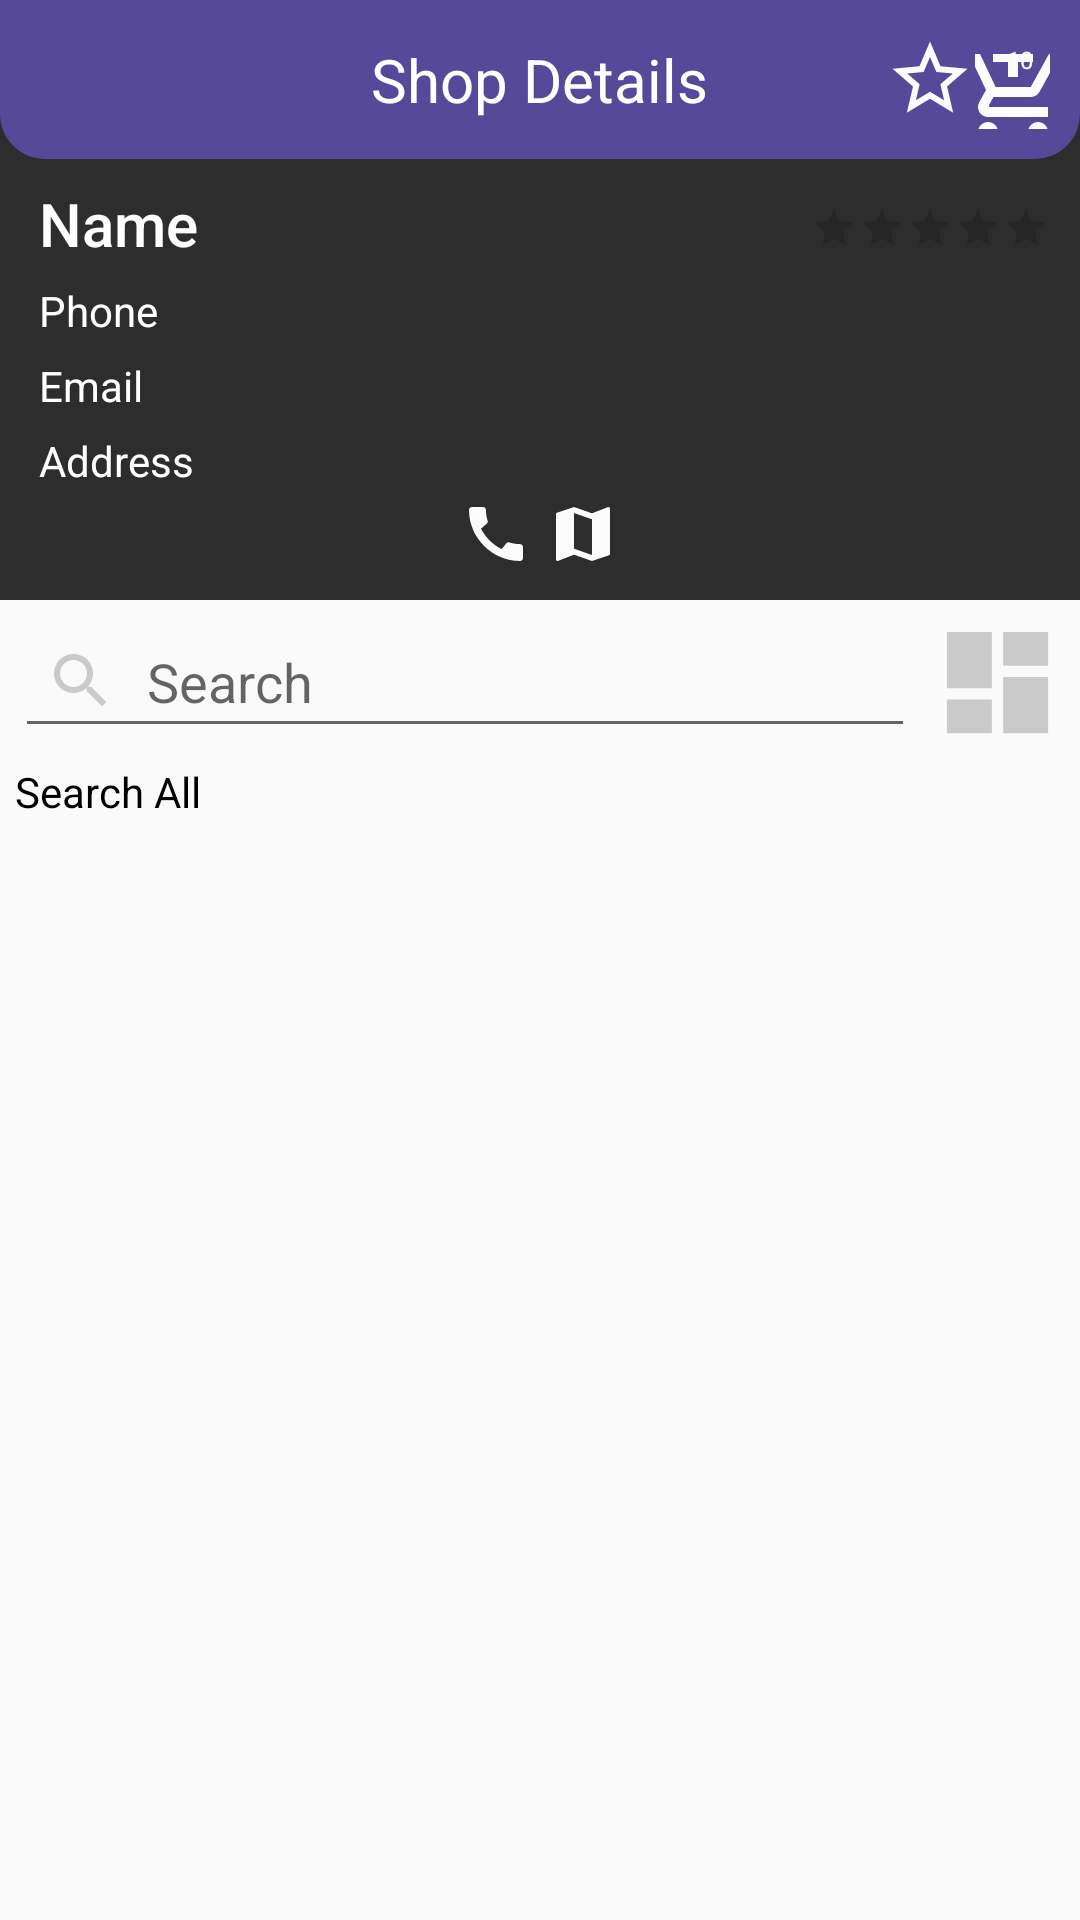

Icon bounding boxes for this 1080x1920 phone screenshot, format (x1, y1, x2, y2):
add shopping cart: (975, 54, 1050, 129)
call: (469, 507, 523, 561)
dashboard: (947, 632, 1048, 733)
map: (556, 507, 610, 561)
star border: (893, 42, 967, 113)
